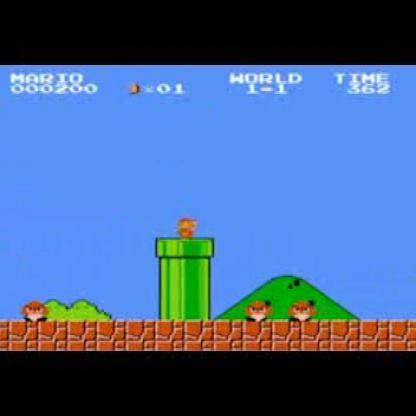Goomba: (20, 295, 52, 324), (242, 294, 274, 321), (287, 294, 318, 321)
